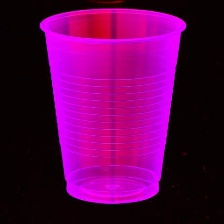glass: (37, 6, 190, 209)
